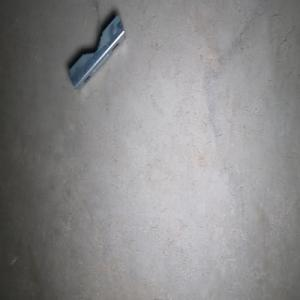ClampPart: (67, 13, 126, 91)
